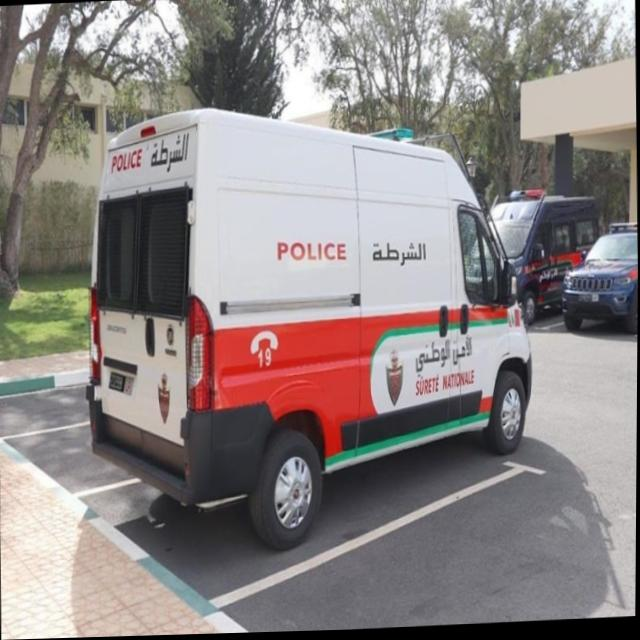Police car: (80, 88, 538, 560)
